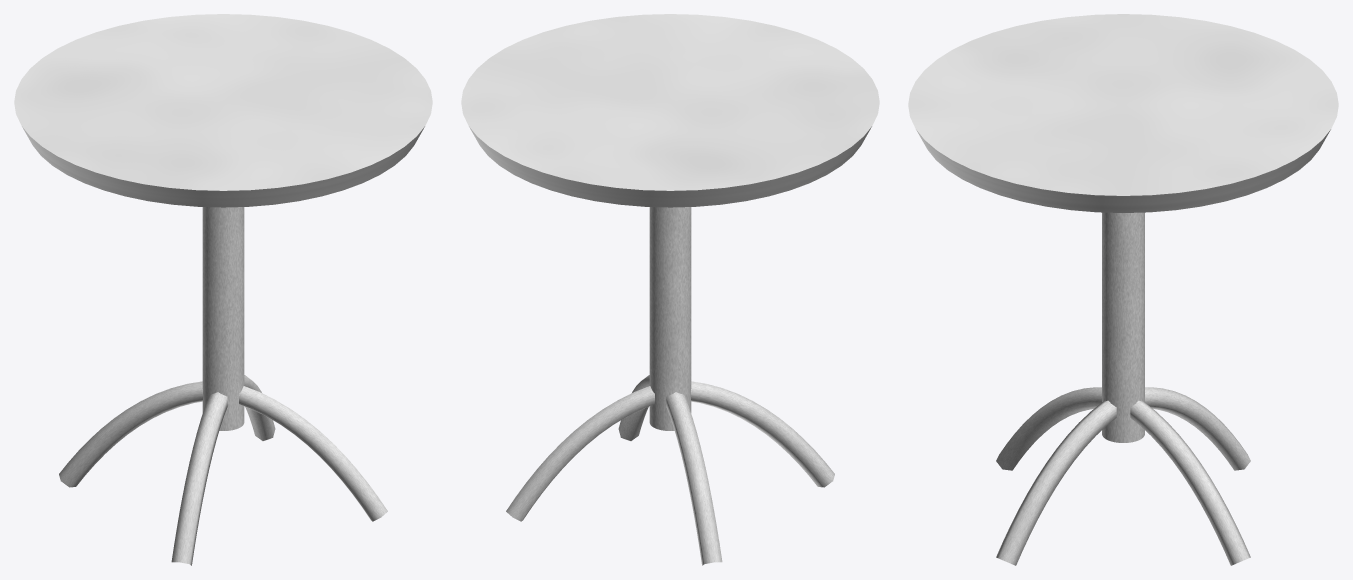
The model's file is bistro-black.glb.
3 views of the same model, side by side, from view 1: azimuth 30°, elevation 25°; view 2: azimuth 150°, elevation 25°; view 3: azimuth 270°, elevation 25° (orthographic). The views are drawn at different scales.
Parts seen in each view (by area): view 1: bistro-black; view 2: bistro-black; view 3: bistro-black.
Part boxes in pixels (x1,y1,x2,y2): bistro-black: (14, 14, 432, 565); bistro-black: (461, 14, 879, 565); bistro-black: (908, 14, 1338, 565).
Size of the model in its own units: 0.7 by 0.74 by 0.7.
2 materials, 2 textured.
